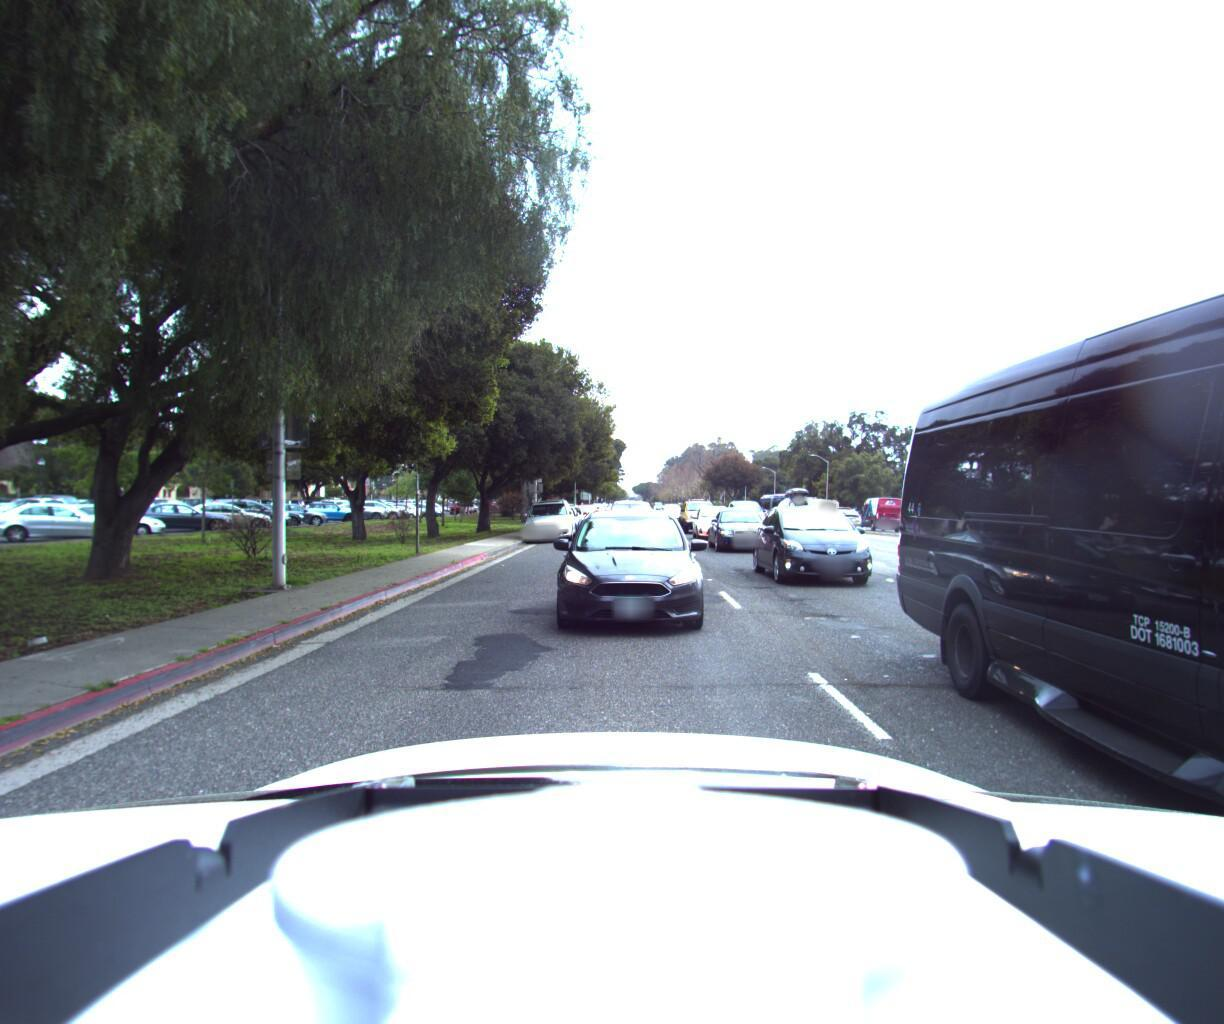car: (547, 506, 708, 644), (750, 502, 894, 596), (764, 486, 840, 548), (705, 507, 778, 557), (599, 500, 656, 548), (521, 498, 576, 544), (687, 506, 740, 544), (676, 499, 723, 536), (852, 497, 901, 530), (543, 508, 583, 538), (553, 506, 588, 533), (820, 508, 860, 530), (570, 503, 599, 528)
